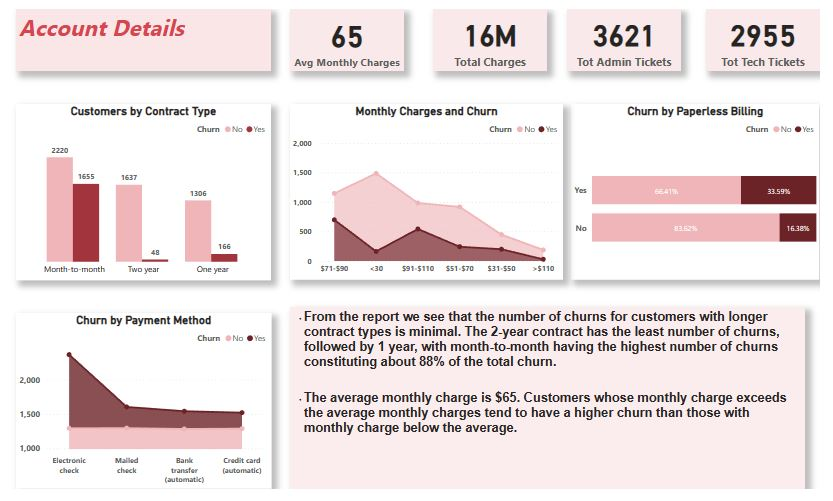

The dashboard page shown, as its layout file describes it:
{"tool":"powerbi","page":{"name":"Account Details","canvas":[1350,800],"ordinal":1},"visuals":[{"type":"textbox","box":[10.1,0,424.8,103.7],"z":0},{"type":"clusteredColumnChart","title":"Customers by Contract Type","fields":{"Category":["01 Churn-Dataset.Contract"],"Series":["01 Churn-Dataset.Churn"],"Y":["CountNonNull(01 Churn-Dataset.customerID)"]},"box":[10.1,158.4,424.8,293.8],"z":1000},{"type":"stackedAreaChart","title":"Churn by Payment Method","fields":{"Category":["01 Churn-Dataset.PaymentMethod"],"Y":["CountNonNull(01 Churn-Dataset.customerID)"],"Series":["01 Churn-Dataset.Churn"]},"box":[9.6,507.2,425.6,292.8],"z":2000},{"type":"hundredPercentStackedBarChart","title":"Churn by Paperless Billing","fields":{"Category":["01 Churn-Dataset.PaperlessBilling"],"Series":["01 Churn-Dataset.Churn"],"Y":["CountNonNull(01 Churn-Dataset.customerID)"]},"box":[935.5,159.1,414.5,293.4],"z":3000},{"type":"card","fields":{"Values":["Avg(01 Churn-Dataset.MonthlyCharges)"]},"box":[467,0,189.7,103.6],"z":4000},{"type":"card","fields":{"Values":["Sum(01 Churn-Dataset.TotalCharges)"]},"box":[704.9,0,189.7,103.6],"z":5000},{"type":"card","fields":{"Values":["Sum(01 Churn-Dataset.numAdminTickets)"]},"box":[928.2,0,189.7,103.6],"z":6000},{"type":"card","fields":{"Values":["Sum(01 Churn-Dataset.numTechTickets)"]},"box":[1160.3,0,189.7,103.6],"z":7000},{"type":"areaChart","title":"Monthly Charges and Churn","fields":{"Y":["CountNonNull(01 Churn-Dataset.customerID)"],"Series":["01 Churn-Dataset.Churn"],"Category":["01 Churn-Dataset.Monthly_charge category"]},"box":[467,157.6,455.4,293.4],"z":8000},{"type":"textbox","box":[467.2,496,859.2,304],"z":9000}]}

Visuals, with their boxes in screenshot pixels (x1, y1, x2, y2), scaled from the page's 1350x800 canvas onto the 833x501 screenshot:
textbox: bbox(6, 0, 268, 65)
"Customers by Contract Type" clusteredColumnChart: bbox(6, 99, 268, 283)
"Churn by Payment Method" stackedAreaChart: bbox(6, 318, 269, 500)
"Churn by Paperless Billing" hundredPercentStackedBarChart: bbox(577, 100, 832, 283)
card - Avg(01 Churn-Dataset.MonthlyCharges): bbox(288, 0, 405, 65)
card - Sum(01 Churn-Dataset.TotalCharges): bbox(435, 0, 552, 65)
card - Sum(01 Churn-Dataset.numAdminTickets): bbox(573, 0, 690, 65)
card - Sum(01 Churn-Dataset.numTechTickets): bbox(716, 0, 832, 65)
"Monthly Charges and Churn" areaChart: bbox(288, 99, 569, 282)
textbox: bbox(288, 311, 818, 500)
